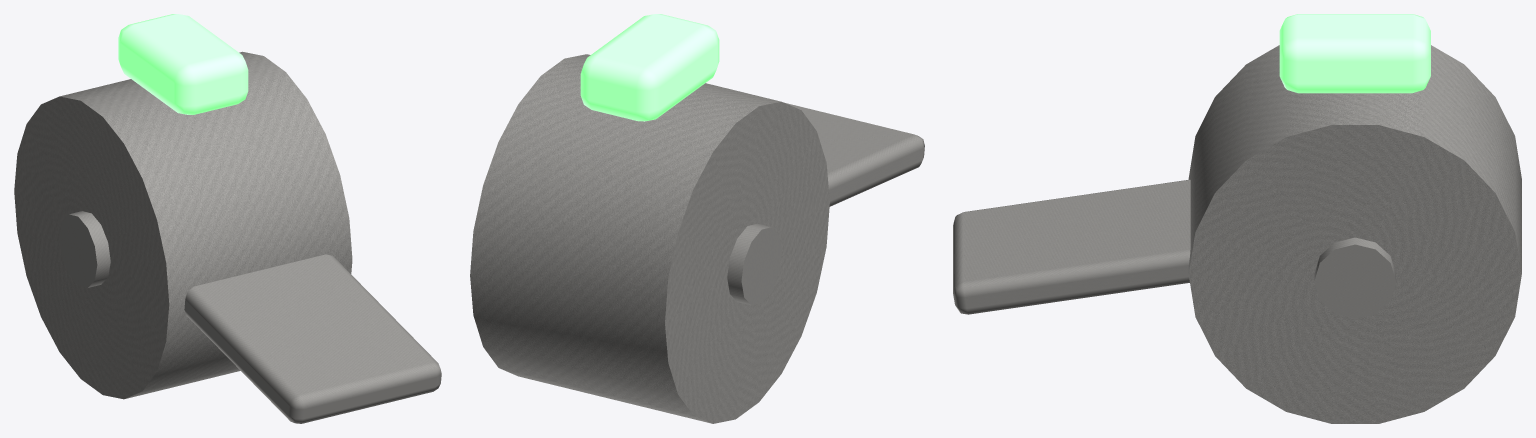
Rendered from battle-royale-town-and-airfield-bandage-roll-8abada24__28228.glb.
3 renders of one model, left to right at view 1: azimuth 30°, elevation 25°; view 2: azimuth 150°, elevation 25°; view 3: azimuth 270°, elevation 25°, orthographic. The views are drawn at different scales.
Visible parts, largest first — view 1: bandage-roll; view 2: bandage-roll; view 3: bandage-roll.
Boxes of the visible parts, <box> form: bandage-roll: <box>14,14,441,423</box>; bandage-roll: <box>470,14,924,423</box>; bandage-roll: <box>953,14,1521,423</box>.
Bounding box in the file's own units: 0.086 × 0.1274 × 0.1878.
2 materials, 1 textured.
